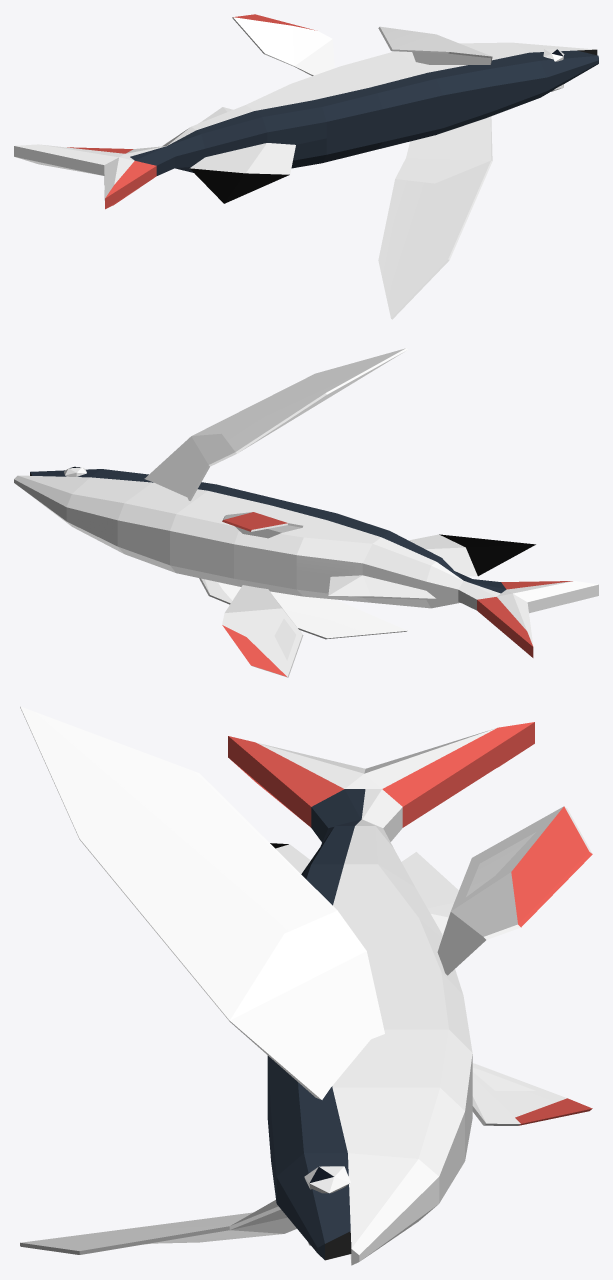
Rendered from FlyingFish.glb.
3 renders of one model, top to bottom at view 1: azimuth 30°, elevation 25°; view 2: azimuth 150°, elevation 25°; view 3: azimuth 270°, elevation 25°, orthographic. The views are drawn at different scales.
Parts seen in each view (by area): view 1: FlyingFish; view 2: FlyingFish; view 3: FlyingFish.
Boxes of the visible parts, left/top/right/bottom form: FlyingFish: left=14, top=14, right=598, bottom=319; FlyingFish: left=14, top=348, right=598, bottom=677; FlyingFish: left=20, top=706, right=592, bottom=1265.
Size of the model in its own units: 0.7994 by 0.3831 by 0.3679.
Materials: 1 (1 with a texture image).
